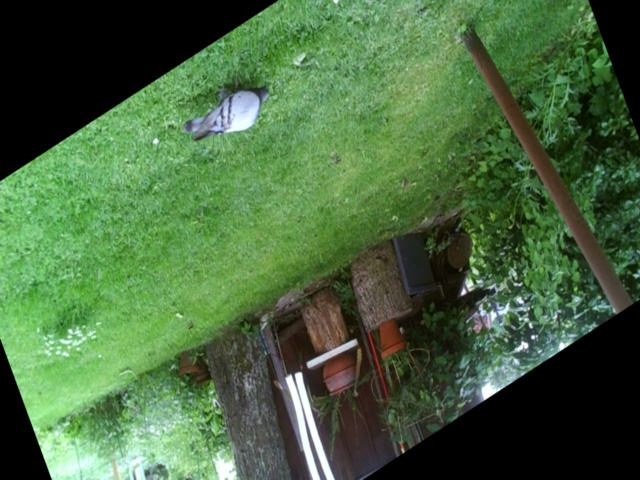Pigeon: (179, 82, 277, 141)
